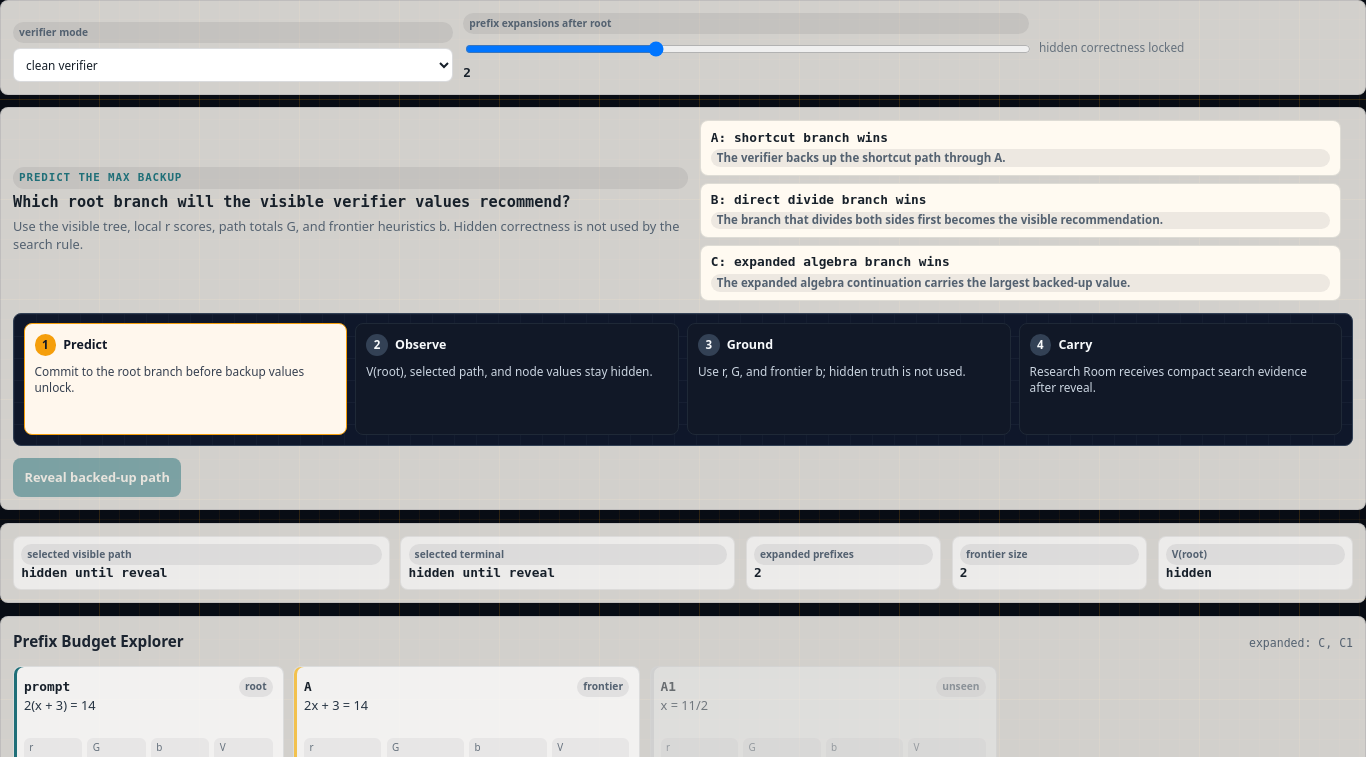
it: TreeSearchReasoningViz prediction reveal › hides backed-up answer, node values, correctness, and DOM selected path before reveal
The width and height of the screenshot is (1366, 757).
expect the button "Reveal backed-up path" is disabled: met, box [13,458,181,497]
expect the text "hidden correctness locked" is shown: met, box [1039,39,1184,55]
Click the button "C: expanded algebra branch wins".
click(1020, 273)  # box [700,245,1341,301]
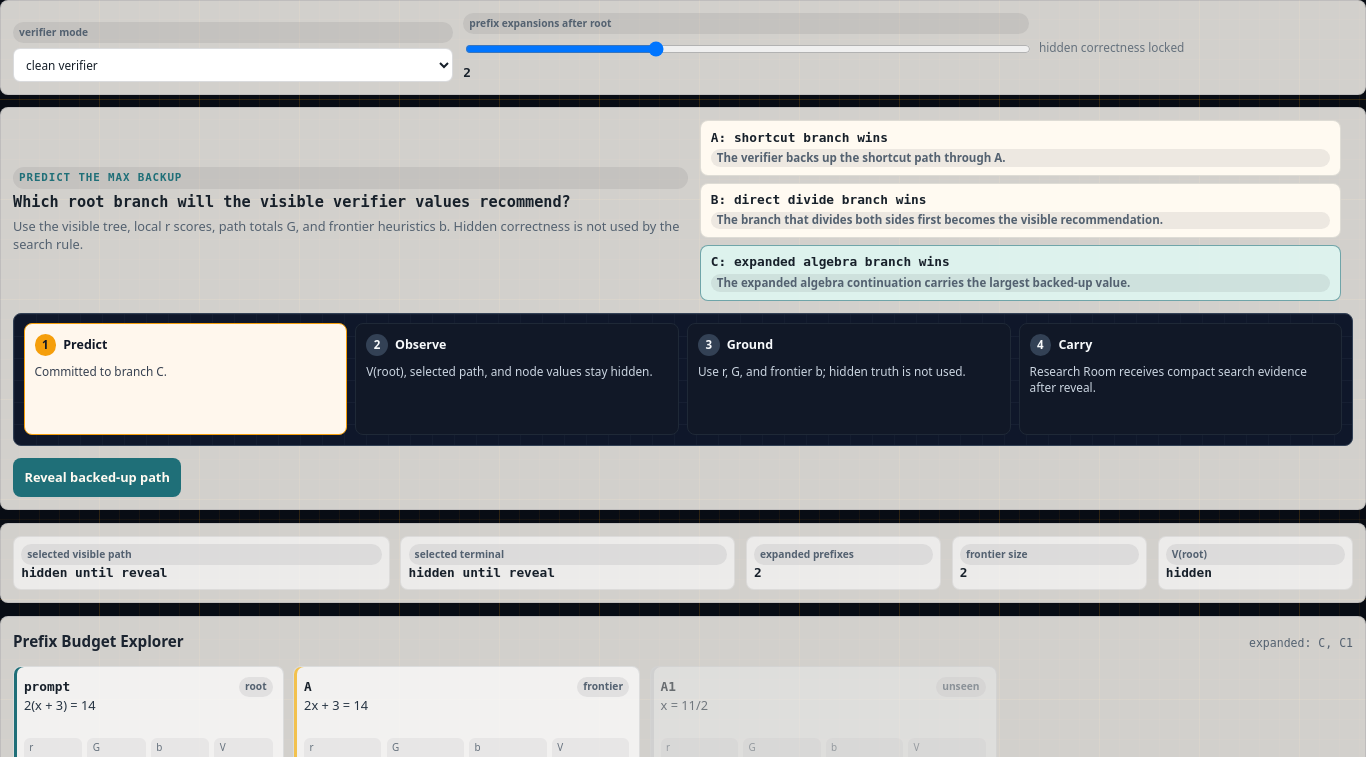
expect the button "Reveal backed-up path" is enabled: met, box [13,458,181,497]
